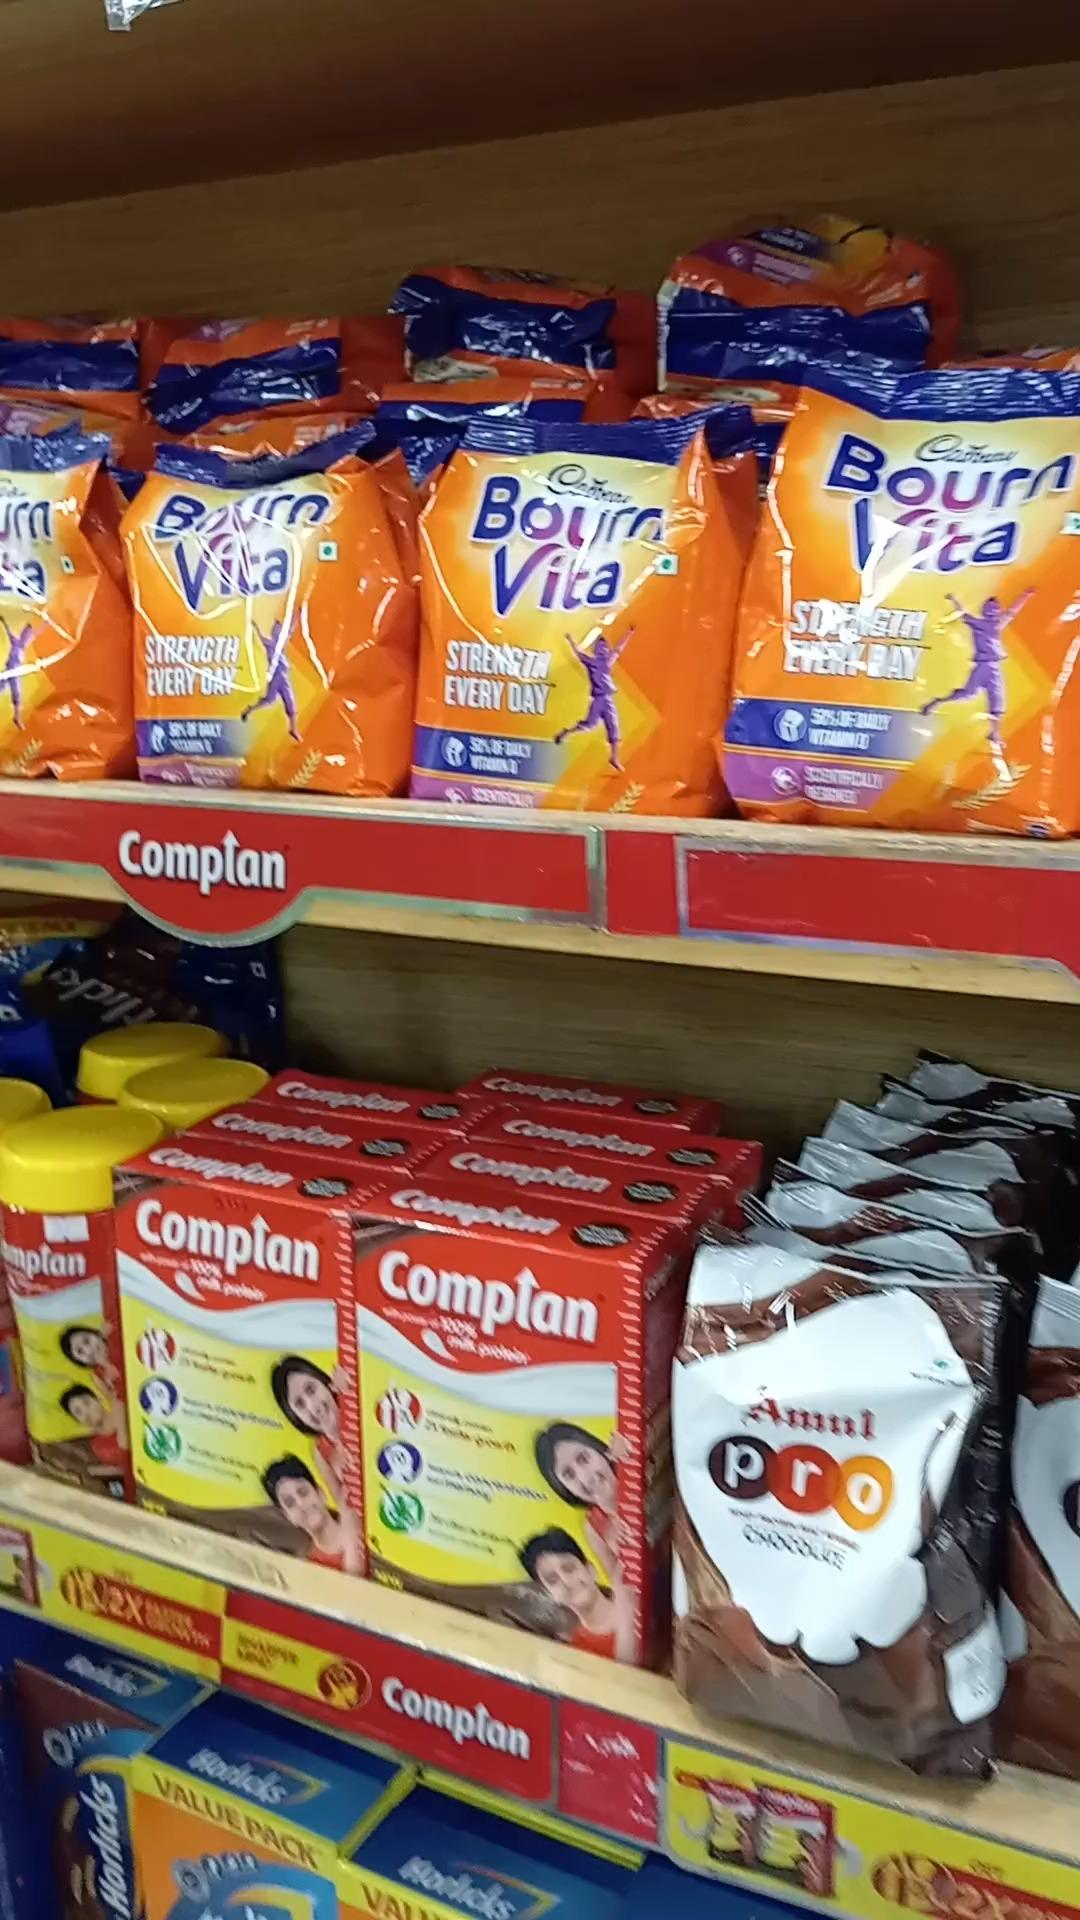BOURN_VITA_500_G_POUCH: (746, 359, 1080, 829), (405, 401, 728, 806), (129, 407, 389, 785)
COMPLAN_CHOCOLATE_500_GMS_PACK: (368, 1209, 637, 1613), (121, 1171, 334, 1540)
